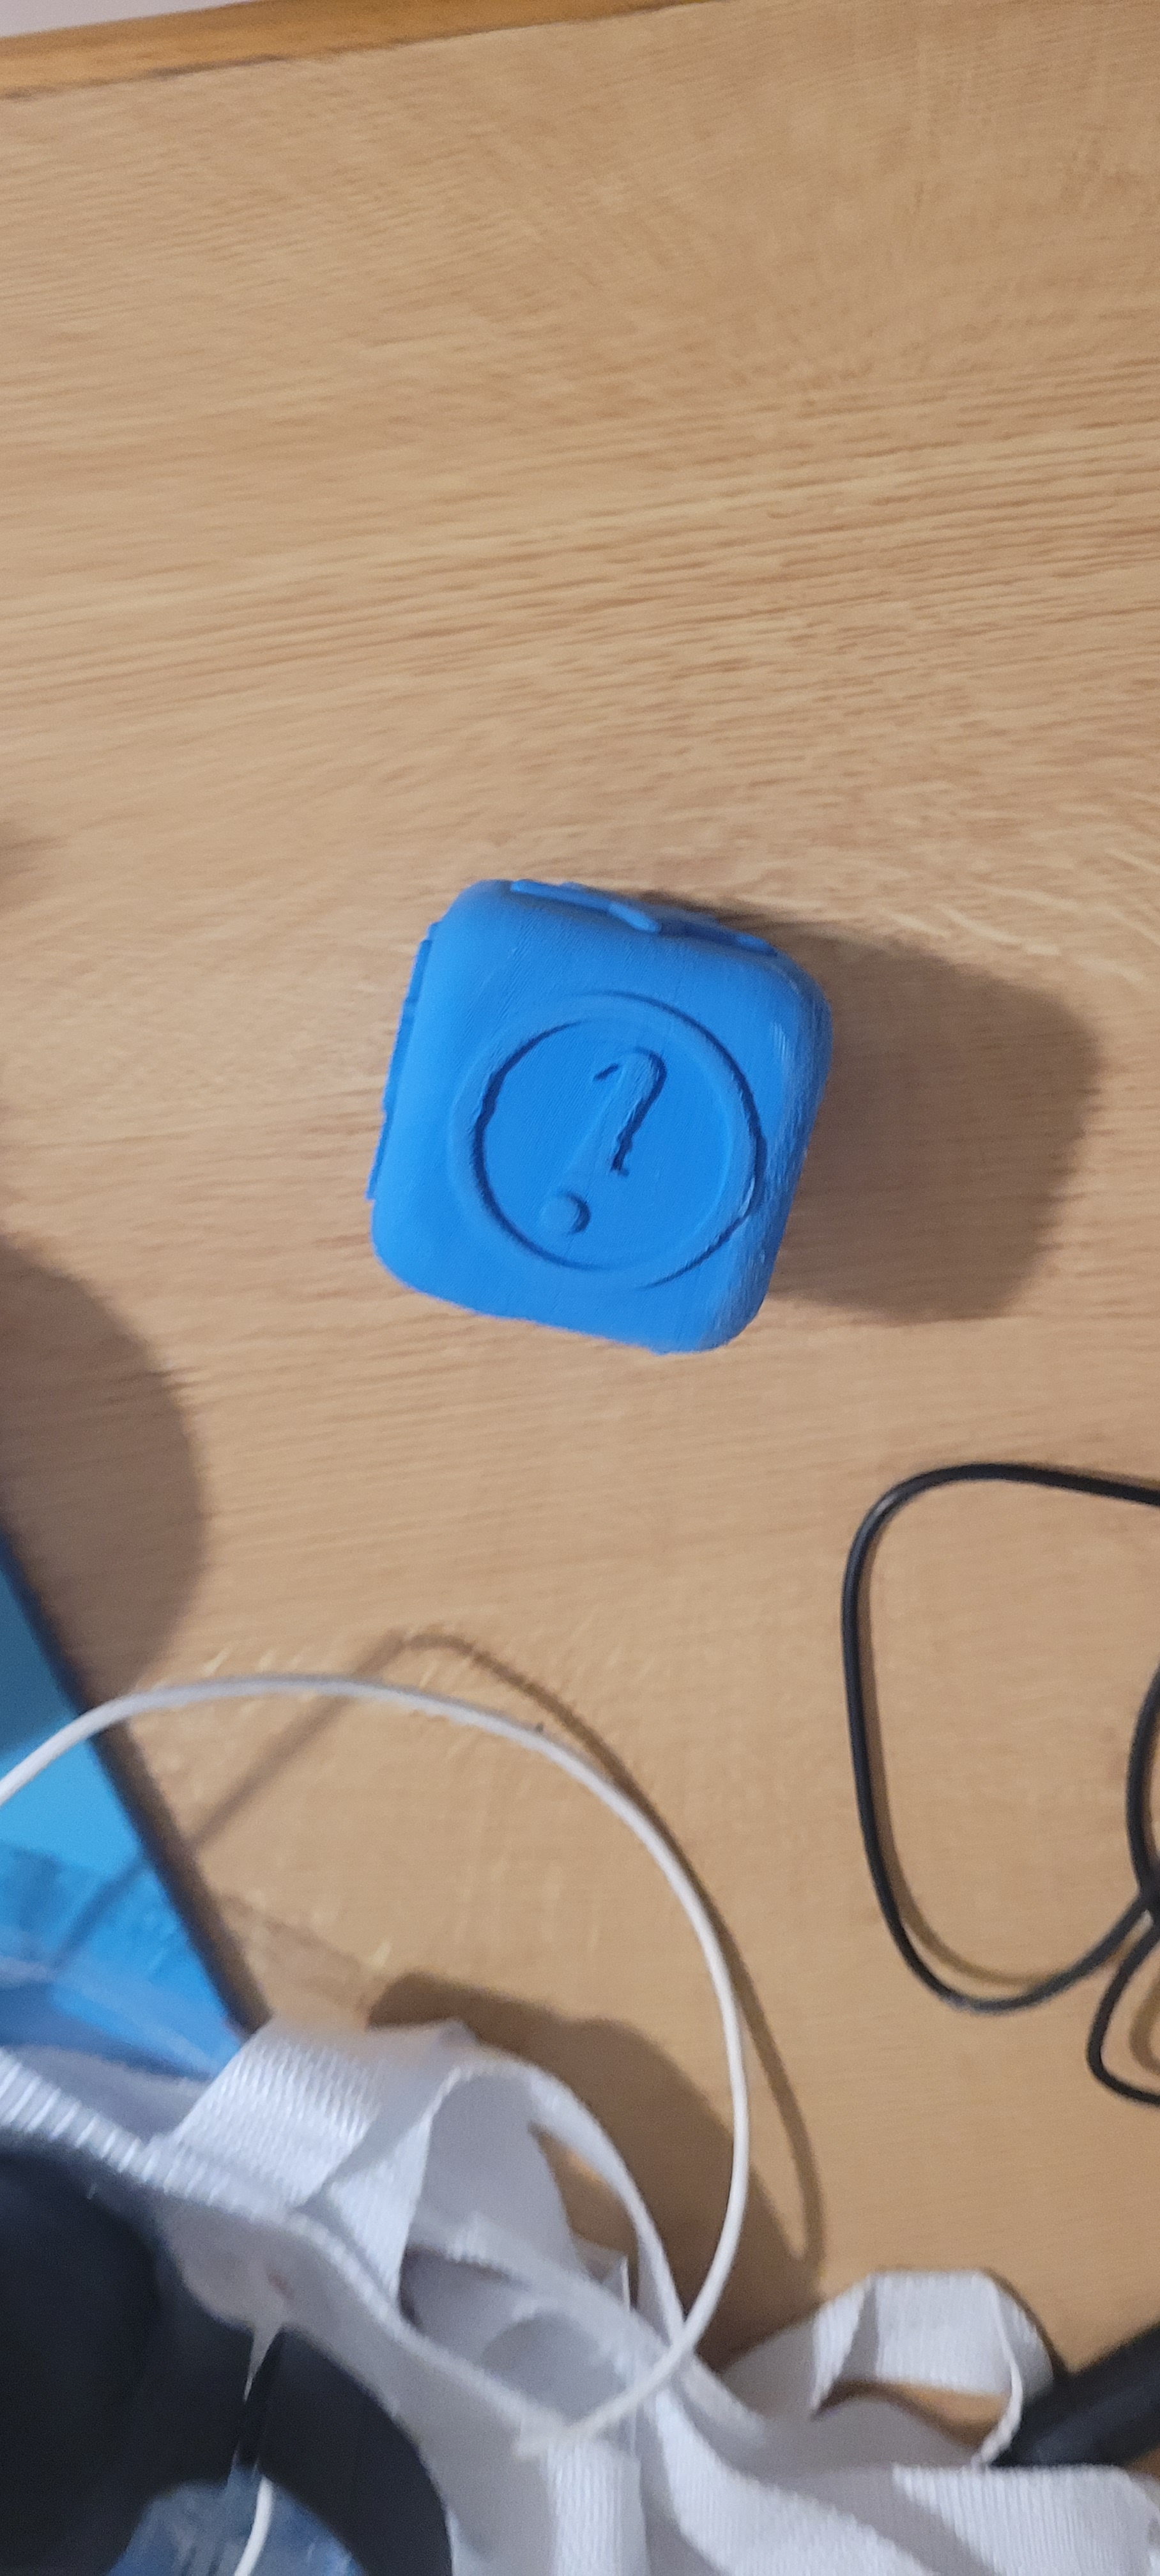Info: (513, 963, 728, 1295)
